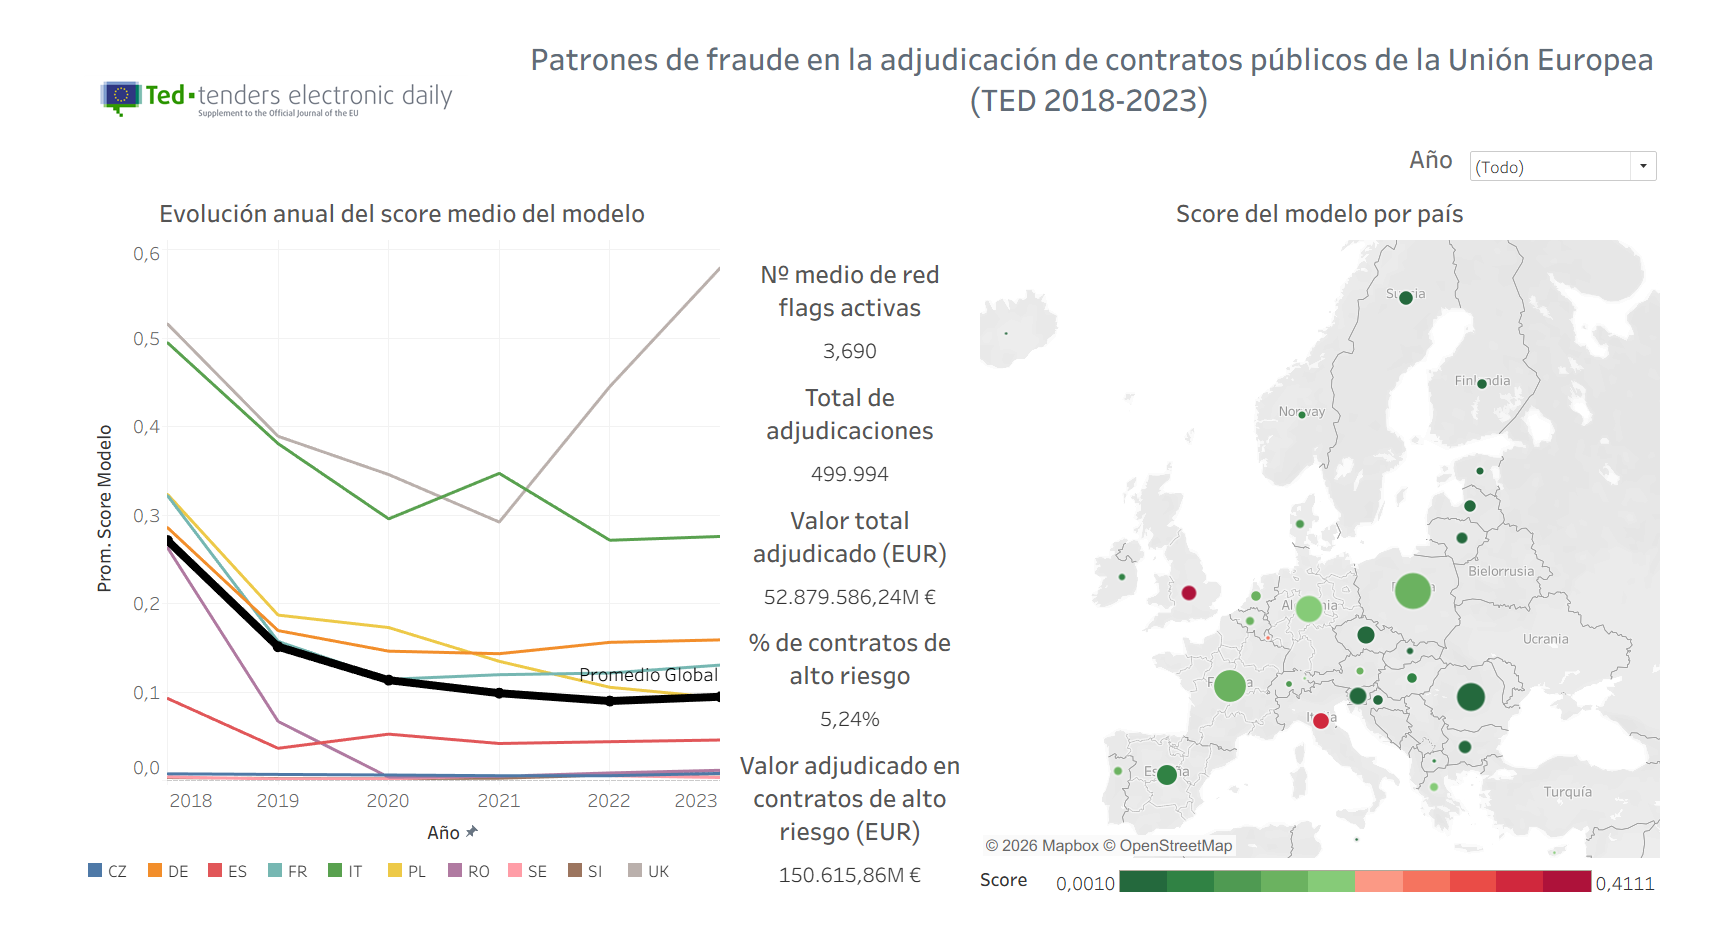

The dashboard page shown, as its layout file describes it:
{"tool":"tableau","page":{"name":"Dashboard 1","canvas":[1600,900],"ordinal":0},"visuals":[{"type":"image","param":"Image/TED-Logo-white-background.png","box":[8,8,392,176]},{"type":"blank","box":[400,8,42,132]},{"type":"text","box":[442,8,1150,132]},{"type":"filter","title":"Evolución temporal del riesgo","param":"[federated.04c1jwz0su23bb1ek6ttd1amq7jg].[none:Ano:ok]","box":[1319,140,273,44]},{"type":"worksheet","title":"Evolución temporal del riesgo","mark":"Automatic","rows":["Score_Modelo","Score_Modelo"],"cols":["Ano"],"box":[8,184,644.4,666.9]},{"type":"blank","box":[652.4,184,252,61]},{"type":"worksheet","title":"Mapa","mark":"Automatic","box":[904.3,184,687.7,674.4]},{"type":"worksheet","title":"Nº red flags medias","mark":"Automatic","box":[652.4,245,252,122.8]},{"type":"legend","title":"Evolución temporal del riesgo","param":"[federated.04c1jwz0su23bb1ek6ttd1amq7jg].[none:Calculation_1470635254784006:nk]","box":[103,246,171,51]},{"type":"worksheet","title":"Total adjudicaciones","mark":"Text","box":[652.4,367.8,252,122.8]},{"type":"worksheet","title":"Valor total adjudicado","mark":"Automatic","box":[652.4,490.6,252,122.8]},{"type":"worksheet","title":"Porc Alto riesgo","mark":"Automatic","box":[652.4,613.4,252,122.8]},{"type":"worksheet","title":"Valor alto riesgo adjudicado","mark":"Automatic","box":[652.4,736.2,252,155.8]},{"type":"legend","title":"Evolución temporal del riesgo","param":"[federated.04c1jwz0su23bb1ek6ttd1amq7jg].[none:Pais:nk]","box":[8,850.9,644.4,41.1]},{"type":"legend","title":"Mapa","param":"[federated.04c1jwz0su23bb1ek6ttd1amq7jg].[avg:Score_Modelo:qk]","box":[904.3,858.4,687.7,33.6]}]}

Visuals, with their boxes in screenshot pixels (x1, y1, x2, y2), scaled from the page's 1600x900 canvas onto the 1714x943 screenshot:
image: bbox=(9, 8, 428, 193)
blank: bbox=(428, 8, 473, 147)
text: bbox=(473, 8, 1705, 147)
"Evolución temporal del riesgo" filter: bbox=(1413, 147, 1705, 193)
"Evolución temporal del riesgo" worksheet: bbox=(9, 193, 699, 892)
blank: bbox=(699, 193, 969, 257)
"Mapa" worksheet: bbox=(969, 193, 1705, 899)
"Nº red flags medias" worksheet: bbox=(699, 257, 969, 385)
"Evolución temporal del riesgo" legend: bbox=(110, 258, 294, 311)
"Total adjudicaciones" worksheet (Text marks): bbox=(699, 385, 969, 514)
"Valor total adjudicado" worksheet: bbox=(699, 514, 969, 643)
"Porc Alto riesgo" worksheet: bbox=(699, 643, 969, 771)
"Valor alto riesgo adjudicado" worksheet: bbox=(699, 771, 969, 935)
"Evolución temporal del riesgo" legend: bbox=(9, 892, 699, 935)
"Mapa" legend: bbox=(969, 899, 1705, 935)
